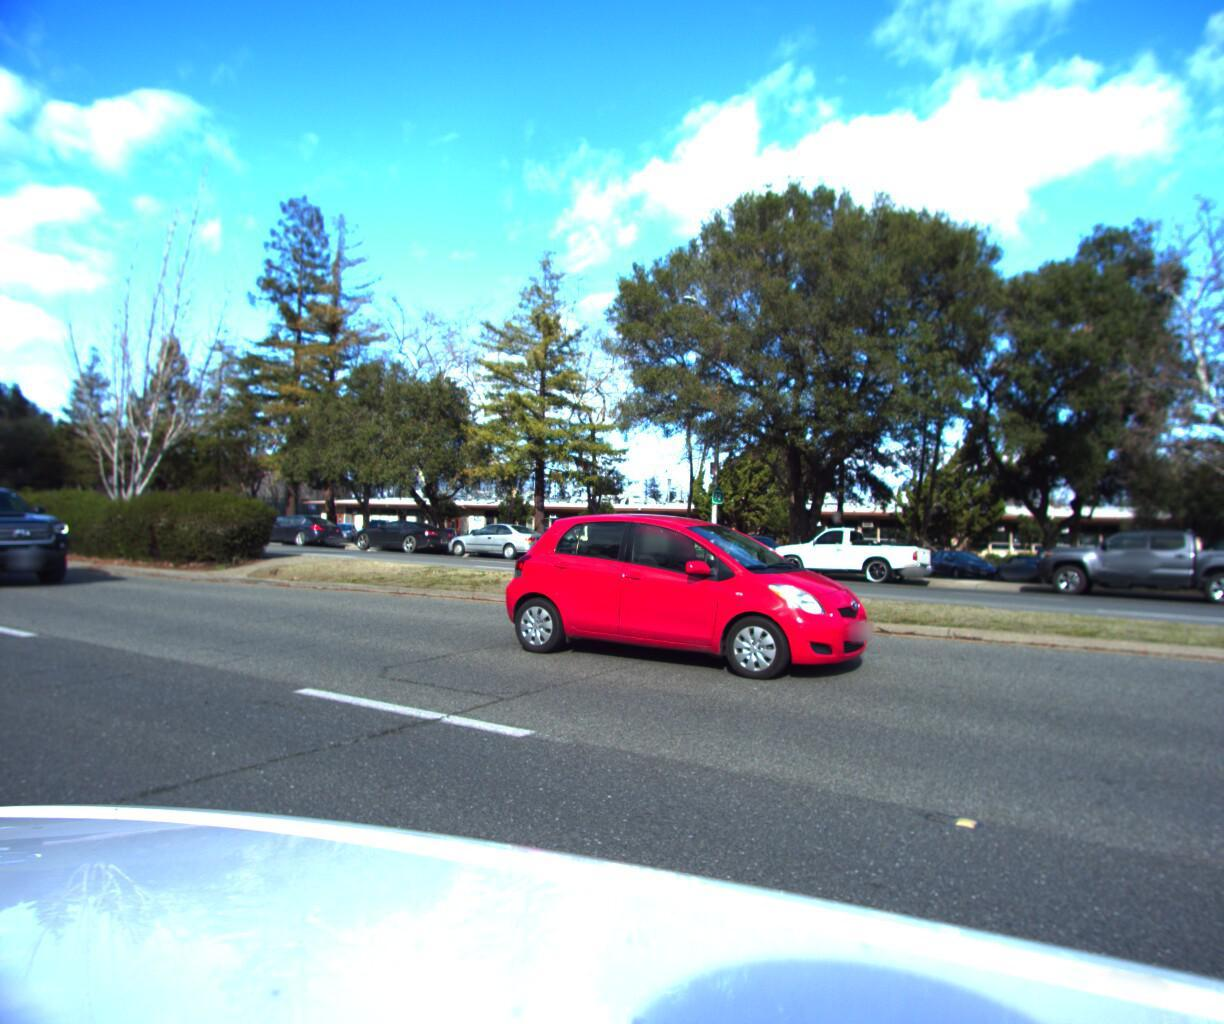car: (495, 504, 884, 689), (1024, 519, 1224, 615), (764, 519, 939, 592), (0, 483, 90, 597), (346, 508, 462, 560), (444, 516, 559, 566), (248, 507, 351, 552)
